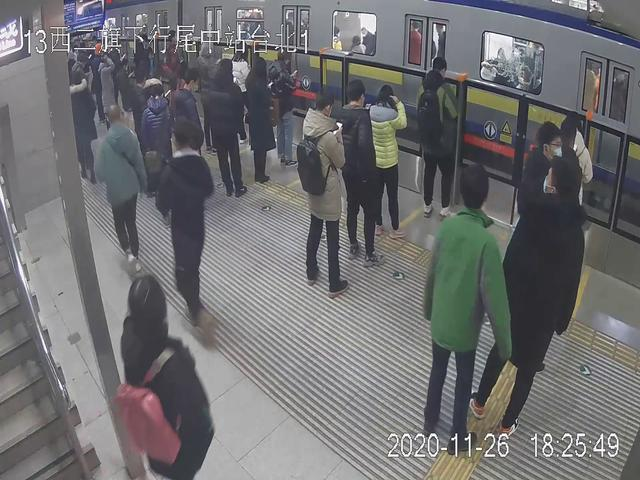person: (476, 151, 583, 429), (423, 161, 502, 441), (117, 275, 206, 480), (162, 119, 212, 320), (300, 89, 345, 295), (333, 76, 376, 261), (99, 102, 145, 266), (414, 56, 458, 220), (367, 84, 405, 239), (205, 57, 243, 198), (65, 69, 100, 181), (244, 54, 273, 184)
